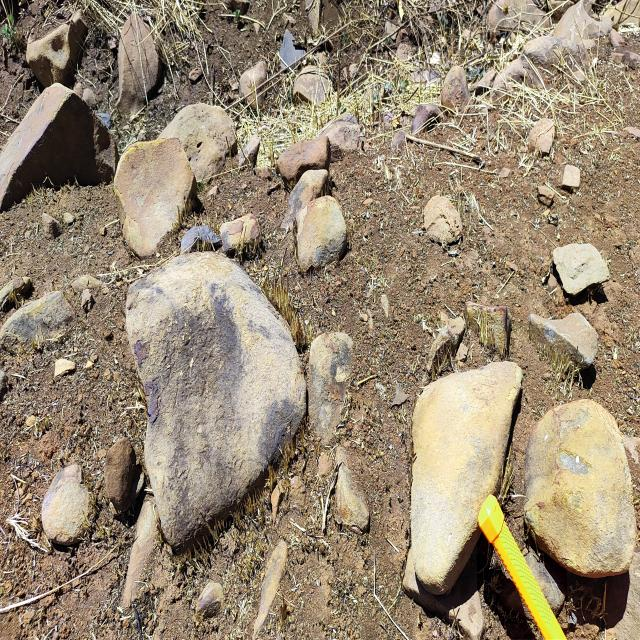Orange_hammer: (477, 492, 567, 639)
